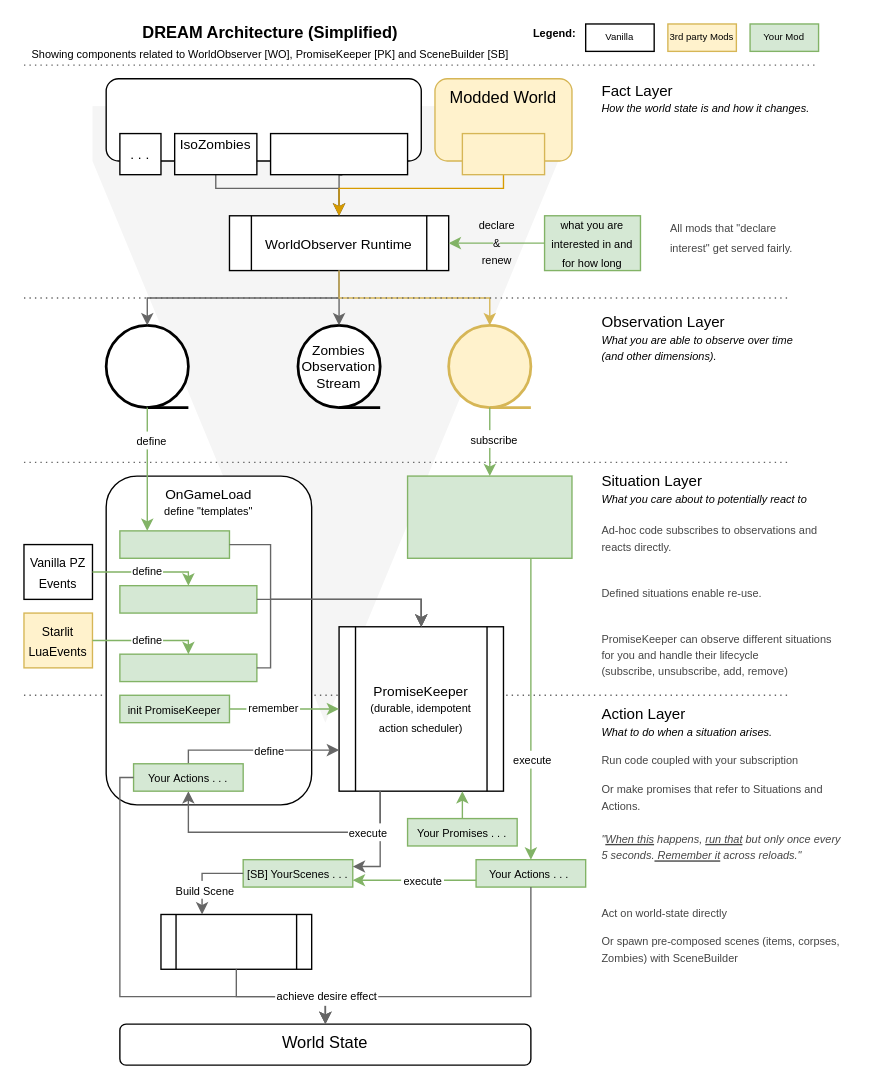
The diagram is 870 pixels wide and 1089 high, and some of its shapes have lost their labels. The centre of each missing label's shape, as x and y in pixels:
"IsoSquares" belongs at point 338,153.
"SceneBuilder (Act on reproducable scene instruction)" belongs at point 236,941.
"Square Observation Stream" belongs at point 146,365.
"Unicorn Obsservation Stream" belongs at point 489,365.
"Unicorns" belongs at point 503,153.
"Vanilla World" belongs at point 263,119.
"Your EventBased Situation" belongs at point 188,667.
"Your own subscription code (check each observation on the spot and decide)" belongs at point 489,516.
"Your Player UpdateSituation" belongs at point 188,598.
"YourSquareSituation" belongs at point 174,544.
